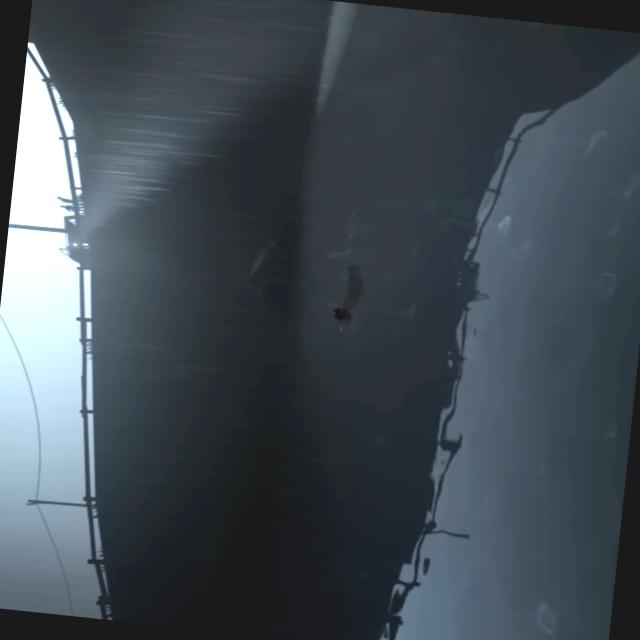boy: (329, 306, 344, 323)
